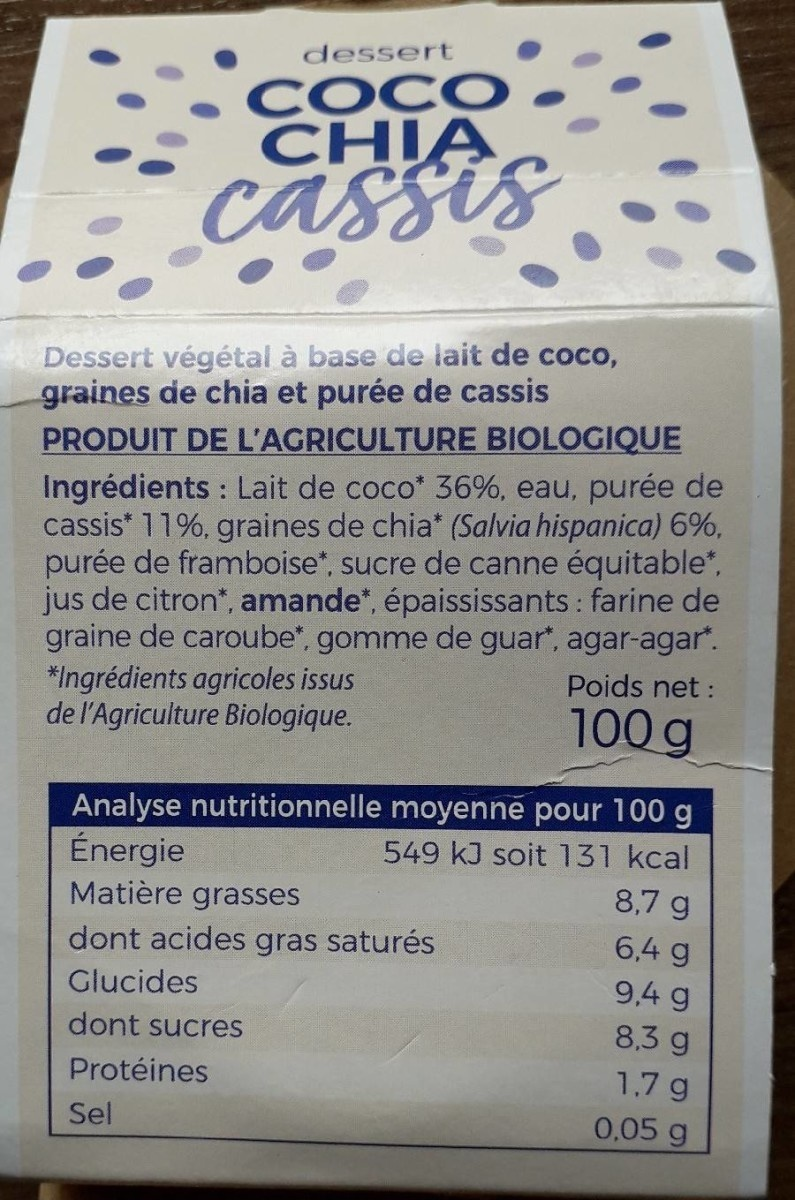column: (70, 792, 689, 1145)
table: (39, 779, 715, 1161)
